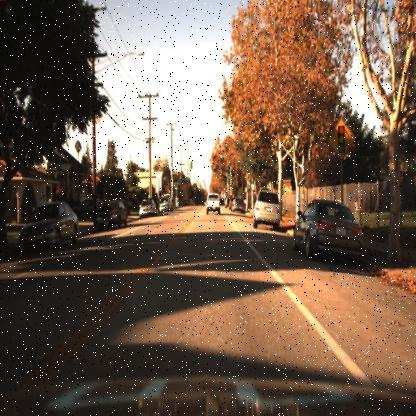car: (292, 193, 365, 261), (290, 195, 364, 262), (14, 196, 80, 256), (250, 185, 281, 231), (91, 196, 130, 232), (73, 194, 105, 221), (136, 194, 158, 221), (204, 189, 223, 217), (137, 197, 158, 221), (228, 196, 245, 215), (156, 196, 171, 214)
